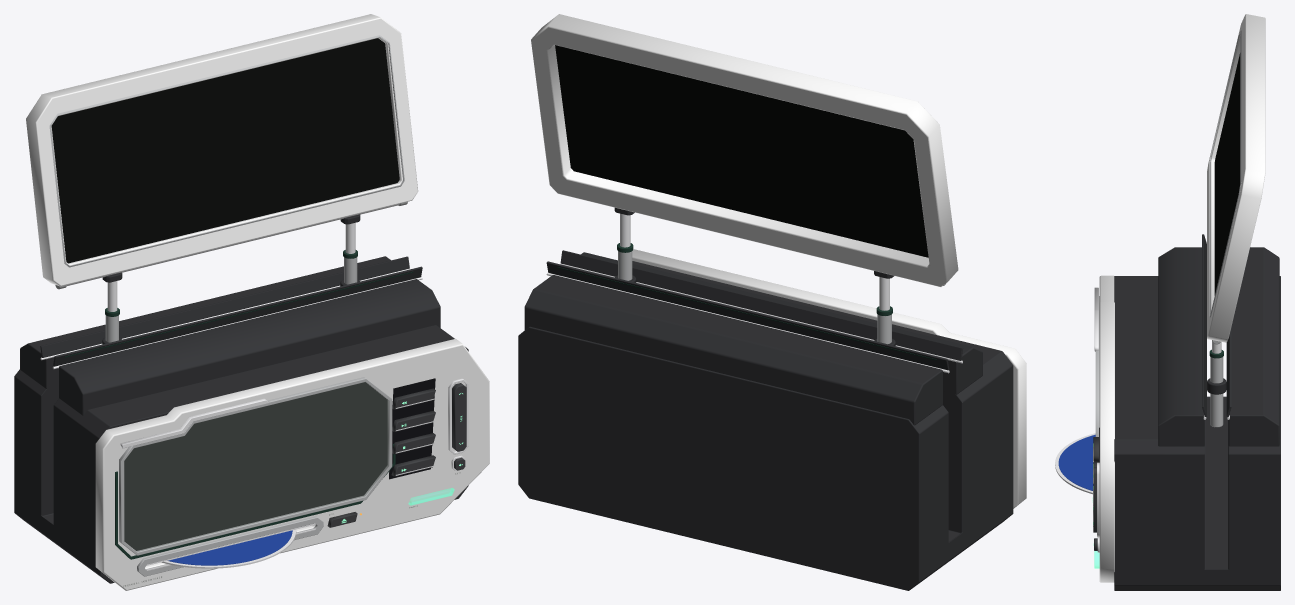
File: deck.glb
3 views of the same model, side by side, from view 1: azimuth 30°, elevation 25°; view 2: azimuth 150°, elevation 25°; view 3: azimuth 270°, elevation 25° (orthographic). The views are drawn at different scales.
Visible parts, largest first — view 1: Screen1Screen, DisplayLens, DisplayScreen, Faceplate, S1Bezel, Hump, Shell, CoverBackPlate, CoverFrontPlate, DisplaySurround, S1Frame, KeyChannel (+6 smaller); view 2: Shell, Screen1Screen, S1Bezel, Hump, Faceplate, CoverFrontPlate, CoverBackPlate, CoverBackStripe; view 3: Shell, Hump, S1Bezel, Faceplate, Screen1Screen, DiscLabel, S1Frame, CoverFrontPlate, Stage1Tube.001, DisplaySurround, CoverBackPlate, DiscBase (+1 smaller).
Boxes of the visible parts, x1=… form: Screen1Screen: x1=51, y1=38, x2=399, y2=263; DisplayLens: x1=124, y1=382, x2=388, y2=551; DisplayScreen: x1=124, y1=382, x2=387, y2=550; Faceplate: x1=95, y1=338, x2=489, y2=590; S1Bezel: x1=26, y1=14, x2=418, y2=286; Hump: x1=20, y1=256, x2=440, y2=415; Shell: x1=14, y1=325, x2=468, y2=583; CoverBackPlate: x1=40, y1=256, x2=409, y2=357; CoverFrontPlate: x1=53, y1=266, x2=422, y2=366; DisplaySurround: x1=119, y1=377, x2=392, y2=555; S1Frame: x1=49, y1=35, x2=404, y2=267; KeyChannel: x1=389, y1=378, x2=435, y2=479; Shell: x1=518, y1=261, x2=1013, y2=590; Screen1Screen: x1=555, y1=45, x2=928, y2=257; S1Bezel: x1=531, y1=14, x2=958, y2=286; Hump: x1=524, y1=252, x2=982, y2=425; Faceplate: x1=632, y1=249, x2=1026, y2=508; CoverFrontPlate: x1=560, y1=250, x2=963, y2=360; CoverBackPlate: x1=546, y1=261, x2=949, y2=370; CoverBackStripe: x1=557, y1=267, x2=936, y2=360; Shell: x1=1114, y1=276, x2=1280, y2=590; Hump: x1=1158, y1=247, x2=1279, y2=446; S1Bezel: x1=1207, y1=14, x2=1265, y2=342; Faceplate: x1=1099, y1=275, x2=1114, y2=582; Screen1Screen: x1=1214, y1=53, x2=1240, y2=295; DiscLabel: x1=1058, y1=434, x2=1095, y2=490; S1Frame: x1=1209, y1=30, x2=1241, y2=318; CoverFrontPlate: x1=1202, y1=234, x2=1206, y2=416; Stage1Tube.001: x1=1210, y1=357, x2=1223, y2=427; DisplaySurround: x1=1095, y1=296, x2=1099, y2=436; CoverBackPlate: x1=1226, y1=327, x2=1231, y2=416; DiscBase: x1=1055, y1=433, x2=1095, y2=494.
Size of the model in its own units: 0.3088 by 0.3337 by 0.162.
